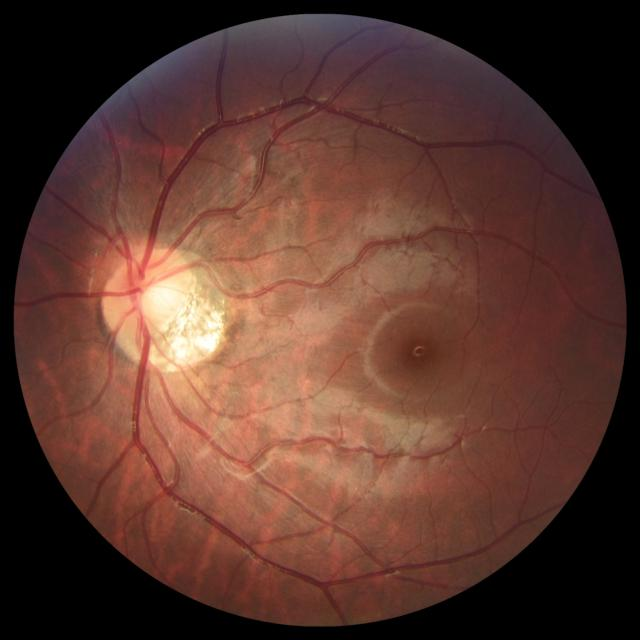OC: (131, 276, 176, 321)
OD: (104, 248, 193, 346)
